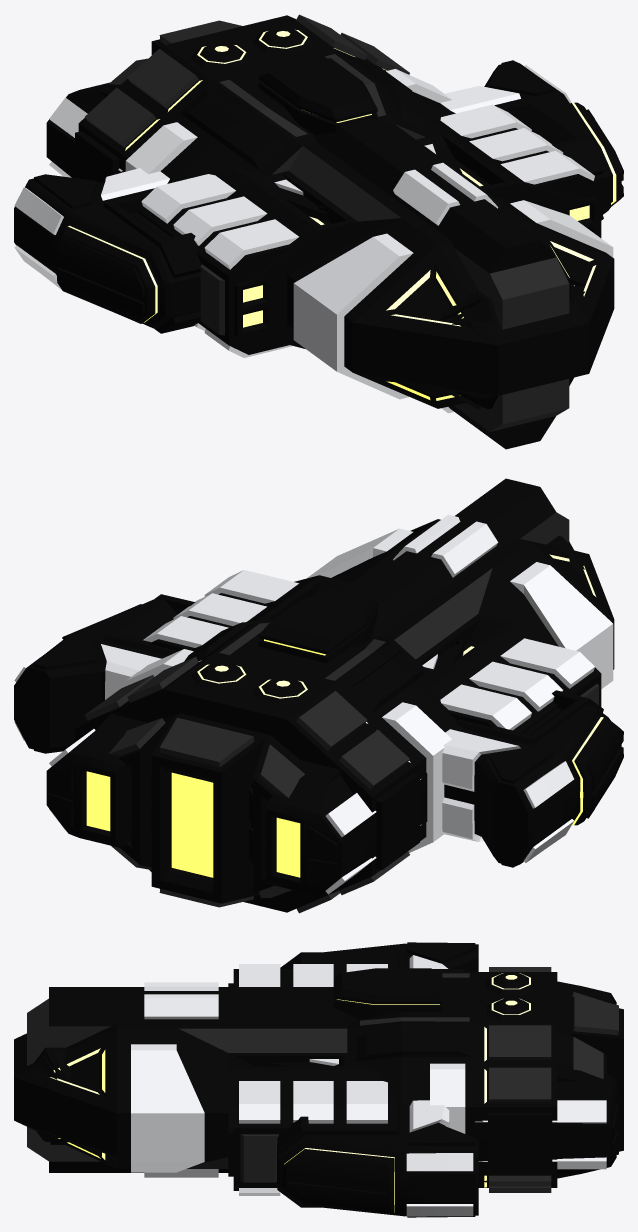
Rendered from 01_ship_heavy_grytes.glb.
3 renders of one model, top to bottom at view 1: azimuth 30°, elevation 25°; view 2: azimuth 150°, elevation 25°; view 3: azimuth 270°, elevation 25°, orthographic. The views are drawn at different scales.
Parts seen in each view (by area): view 1: 01_ship_heavy_grytes, 01_ship_heavy_grytes_prev; view 2: 01_ship_heavy_grytes, 01_ship_heavy_grytes_prev; view 3: 01_ship_heavy_grytes, 01_ship_heavy_grytes_prev.
Part boxes in pixels (left/top/right/bottom): 01_ship_heavy_grytes: left=75, top=14, right=614, bottom=449; 01_ship_heavy_grytes_prev: left=14, top=60, right=623, bottom=409; 01_ship_heavy_grytes: left=75, top=478, right=614, bottom=913; 01_ship_heavy_grytes_prev: left=14, top=536, right=623, bottom=894; 01_ship_heavy_grytes: left=14, top=964, right=623, bottom=1195; 01_ship_heavy_grytes_prev: left=34, top=942, right=618, bottom=1217.
Bounding box in the file's own units: 0.8688 × 0.3574 × 1.
